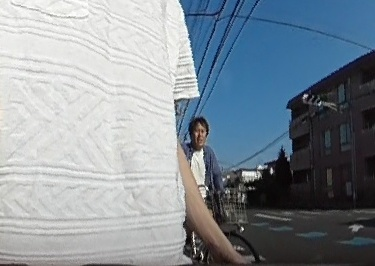person: (180, 112, 221, 226)
